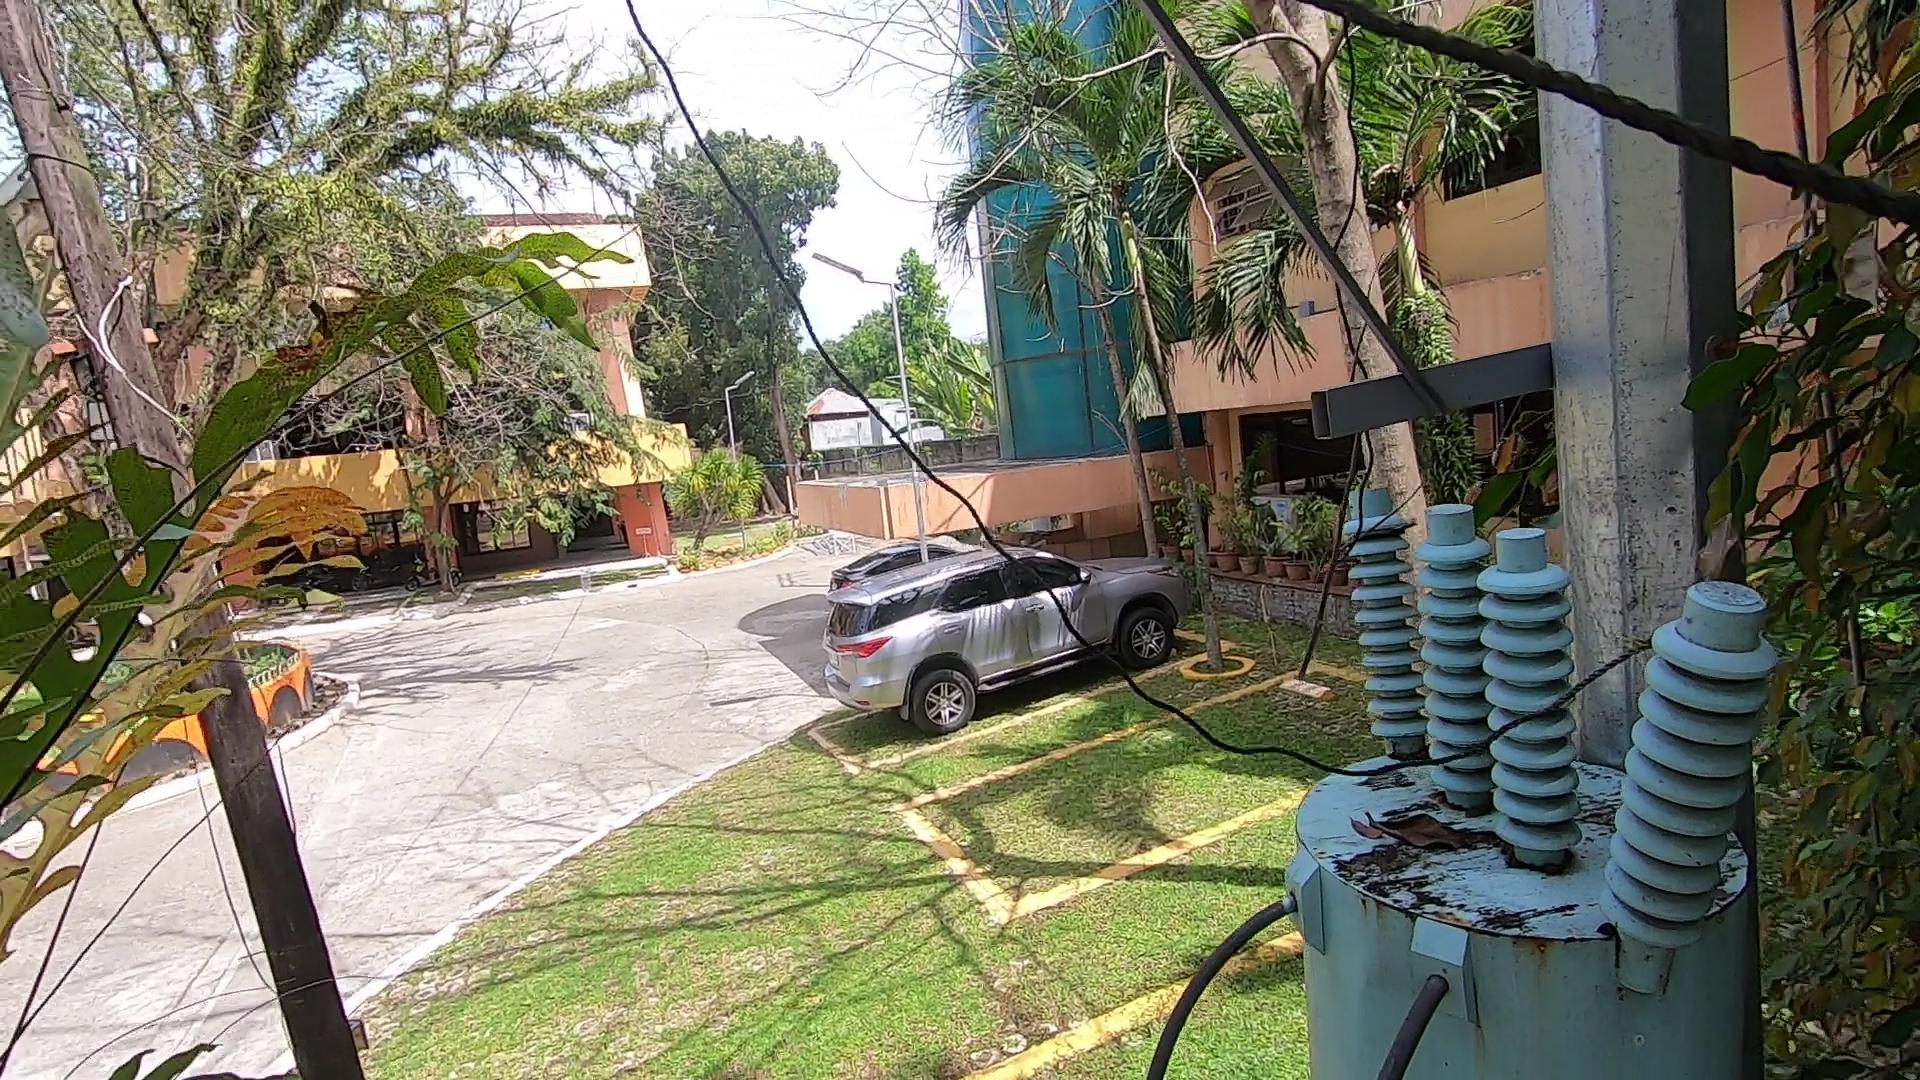leaf: (1346, 791, 1501, 858), (1377, 738, 1427, 767)
tree branch: (1286, 198, 1420, 676)
